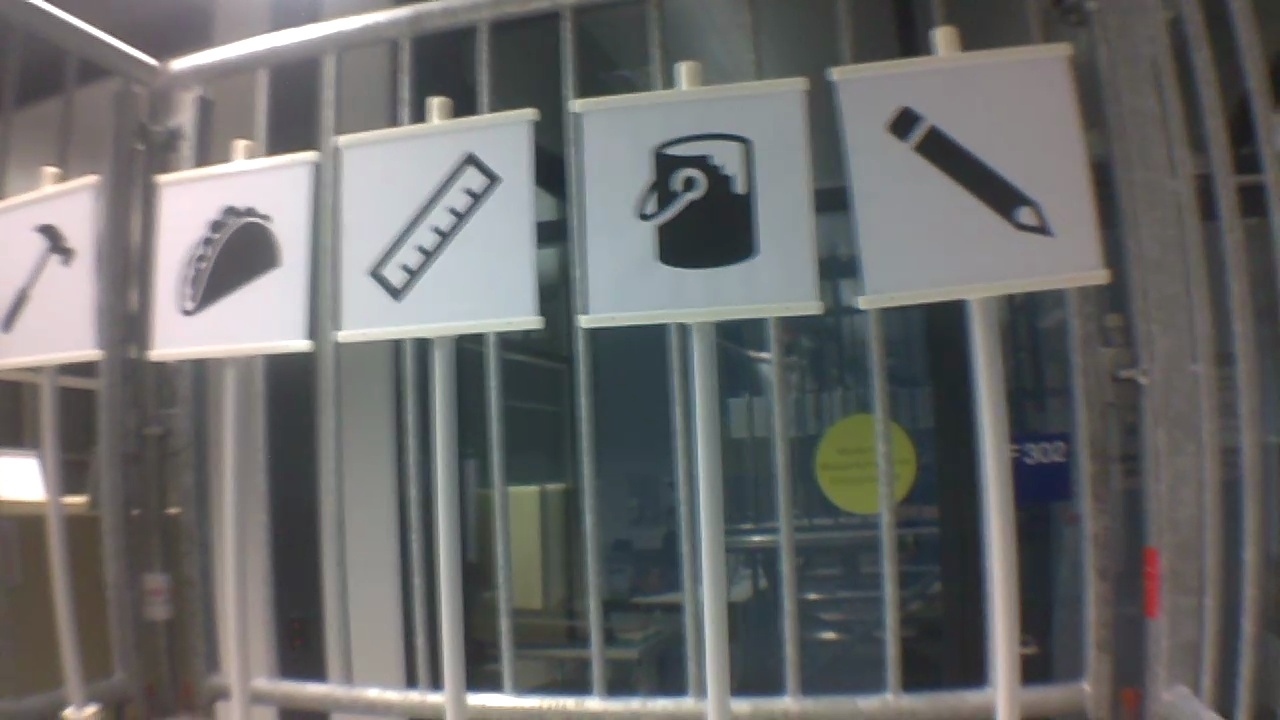bucket: (628, 127, 761, 272)
hammer: (1, 219, 84, 339)
pencil: (877, 100, 1063, 249)
ruler: (361, 144, 508, 308)
taco: (168, 197, 287, 321)
